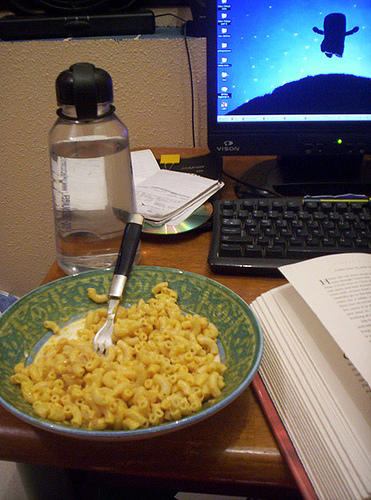macncheese: (14, 281, 228, 428)
